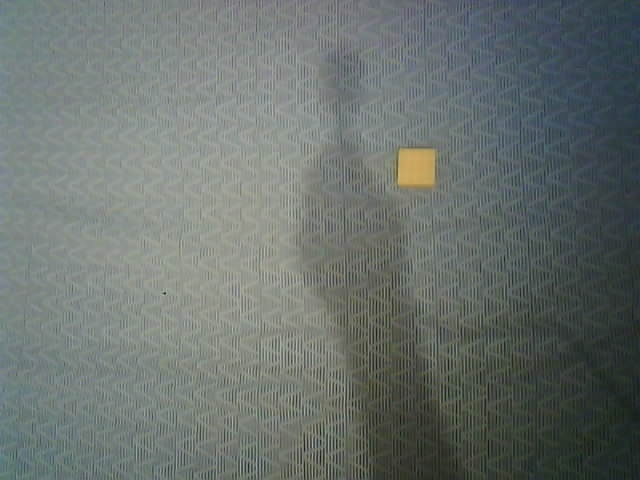lego: (395, 147, 438, 189)
